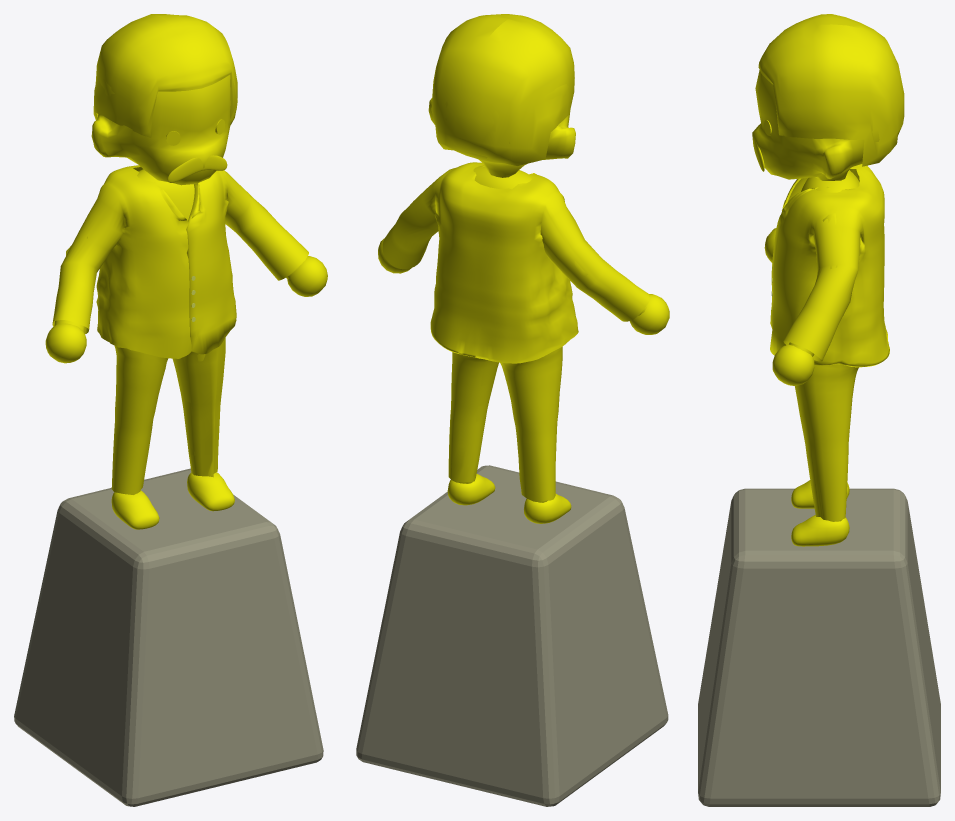
File: Statue.glb
3 renders of one model, left to right at view 1: azimuth 30°, elevation 25°; view 2: azimuth 150°, elevation 25°; view 3: azimuth 270°, elevation 25°, orthographic. The views are drawn at different scales.
Visible parts, largest first — view 1: Statue.002; view 2: Statue.002; view 3: Statue.002.
Part boxes in pixels (x1,y1,x2,y2): Statue.002: (14,14,327,806); Statue.002: (356,14,669,806); Statue.002: (698,14,940,806).
Size of the model in its own units: 9.07 by 22.19 by 6.62.
